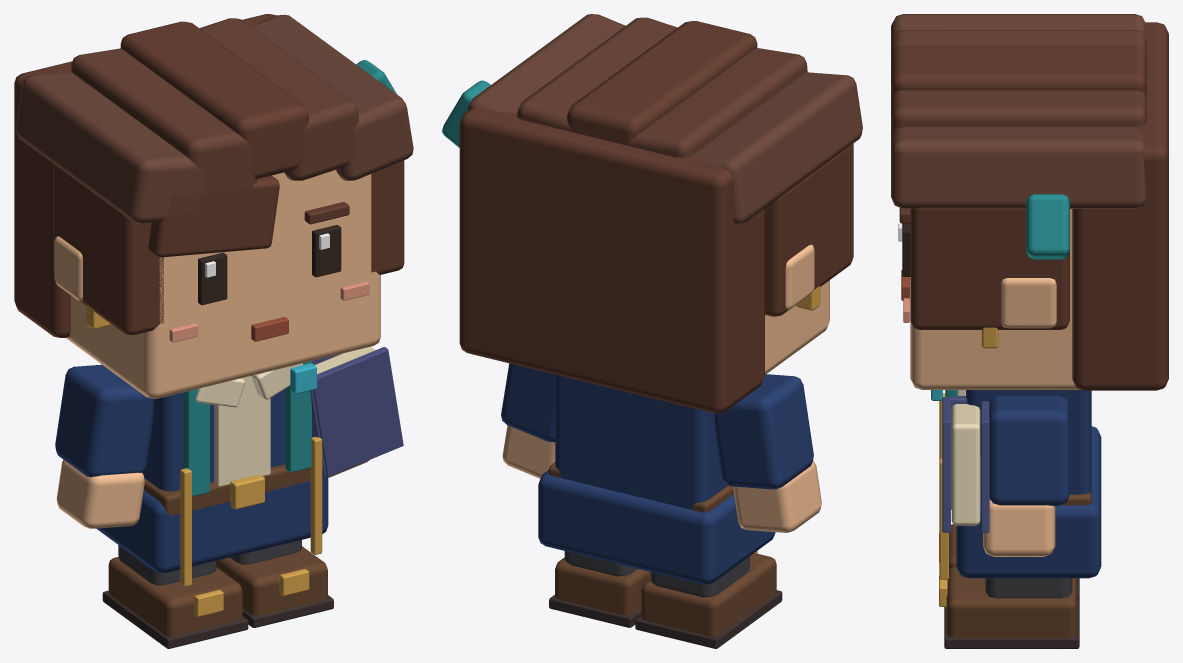
File: NPC00_hub_guide.glb
The picture shows the model from 3 angles, left to right: view 1: azimuth 30°, elevation 25°; view 2: azimuth 150°, elevation 25°; view 3: azimuth 270°, elevation 25°; orthographic projection. The views are drawn at different scales.
Parts seen in each view (by area): view 1: Face, HairLock, _MeshInstance3D_12, SideHair, Skirt, _MeshInstance3D_11, Sleeve, HairBack, _MeshInstance3D_14, _MeshInstance3D_13, _MeshInstance3D_5, Fringe (+26 smaller); view 2: HairBack, Jacket, Skirt, HairLock, _MeshInstance3D_12, SideHair, Sleeve, _MeshInstance3D_11, _MeshInstance3D_13, Boot, _MeshInstance3D_14, Hand (+11 smaller); view 3: HairBack, _MeshInstance3D_14, _MeshInstance3D_15, _MeshInstance3D_12, Face, _MeshInstance3D_13, Sleeve2, Skirt, Boot2, _MeshInstance3D_11, HairLock, BookPages (+10 smaller).
Part boxes in pixels (x1,y1,x2,y2): Face: (66,170,380,398); HairLock: (16,72,204,223); _MeshInstance3D_12: (120,21,308,178); SideHair: (53,164,163,335); Skirt: (96,476,328,572); _MeshInstance3D_11: (71,48,256,193); Sleeve: (55,364,153,477); HairBack: (14,14,276,337); _MeshInstance3D_14: (252,14,413,180); _MeshInstance3D_13: (199,18,358,180); _MeshInstance3D_5: (313,347,403,476); Fringe: (148,175,279,257); HairBack: (459,108,764,413); Jacket: (555,374,727,509); Skirt: (538,470,775,584); HairLock: (693,72,862,224); _MeshInstance3D_12: (567,21,757,144); SideHair: (765,144,853,316); Sleeve: (714,374,813,489); _MeshInstance3D_11: (626,48,807,157); _MeshInstance3D_13: (517,17,677,132); Boot: (641,553,776,636); _MeshInstance3D_14: (467,14,625,112); Hand: (733,460,821,532); HairBack: (1072,22,1168,390); _MeshInstance3D_14: (891,127,1146,208); _MeshInstance3D_15: (910,207,1069,329); _MeshInstance3D_12: (891,46,1146,96); Face: (910,209,1081,389); _MeshInstance3D_13: (891,90,1146,134); Sleeve2: (989,395,1069,506); Skirt: (956,426,1101,578); Boot2: (946,566,1076,637); _MeshInstance3D_11: (891,30,1146,56); HairLock: (891,14,1145,41); BookPages: (951,404,980,525).
Size of the model in its own units: 0.8376 by 1.25 by 0.575.
